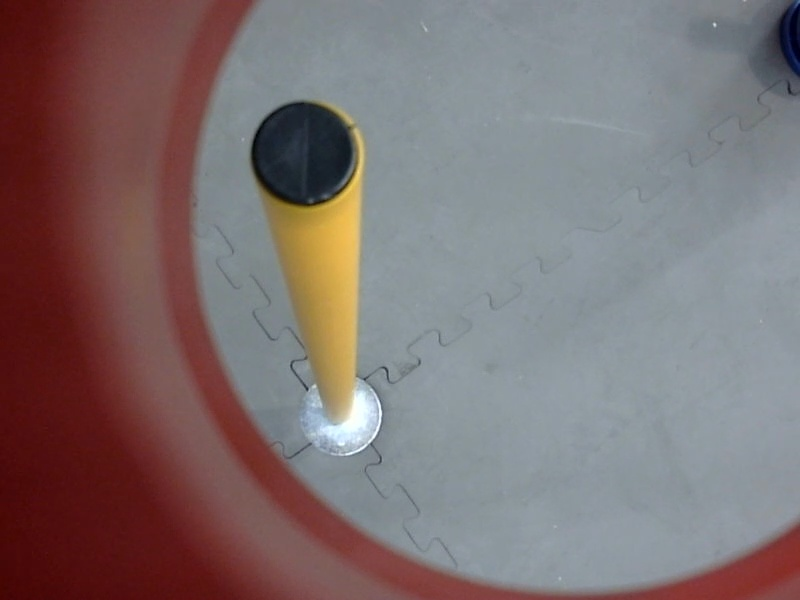tip: (240, 91, 370, 212)
